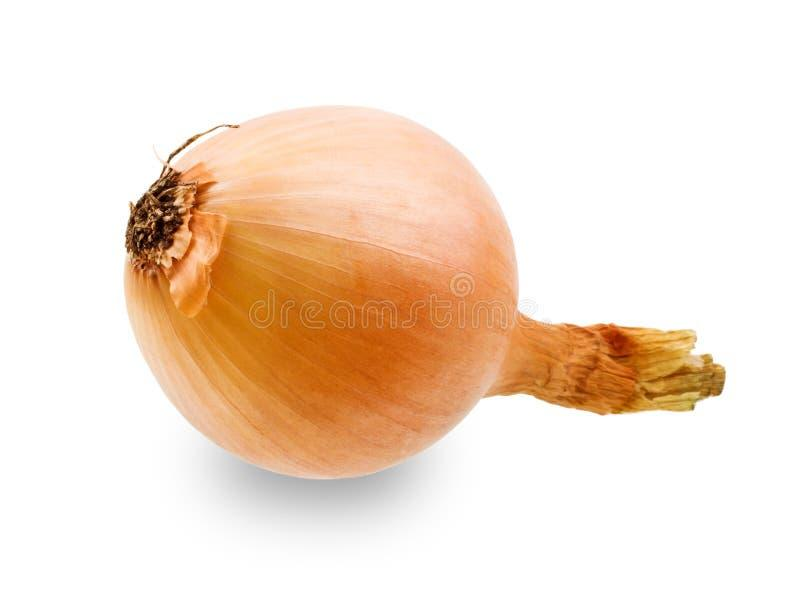Onion: (124, 106, 518, 478)
